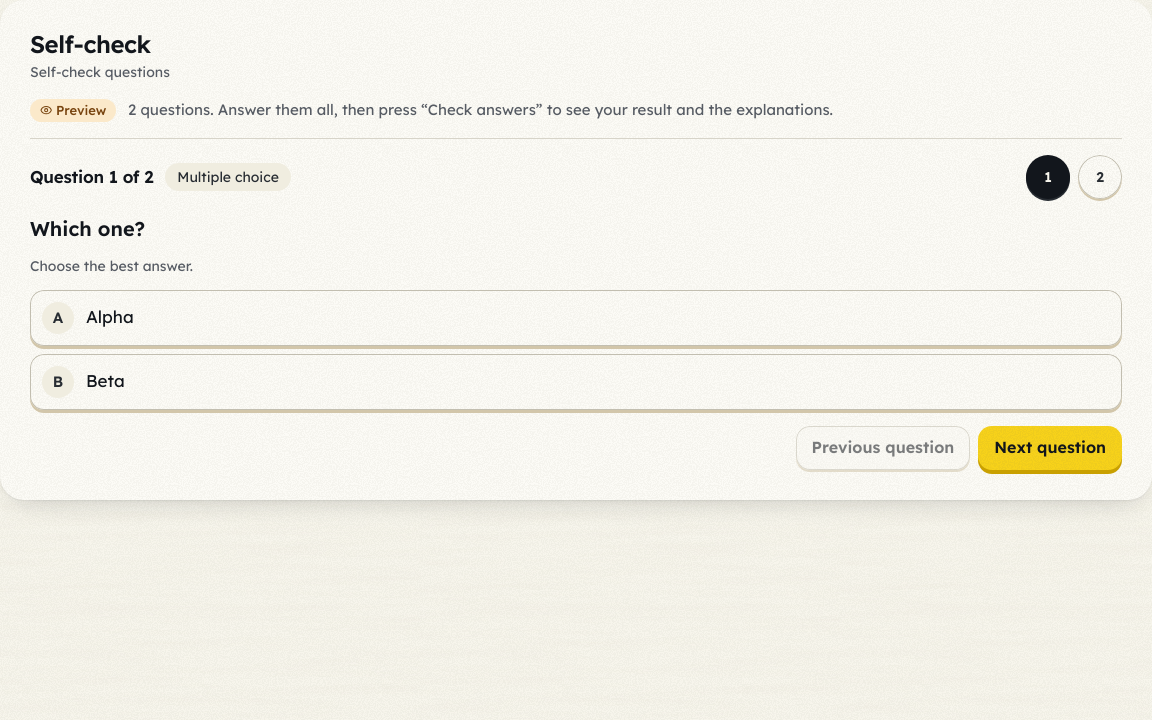
it: QuizBlock learner view › lists unanswered questions, then counts them as wrong when checked anyway
The image size is (1152, 720).
Click the button "Next question" at point(1050, 448), box [978,426,1122,470]
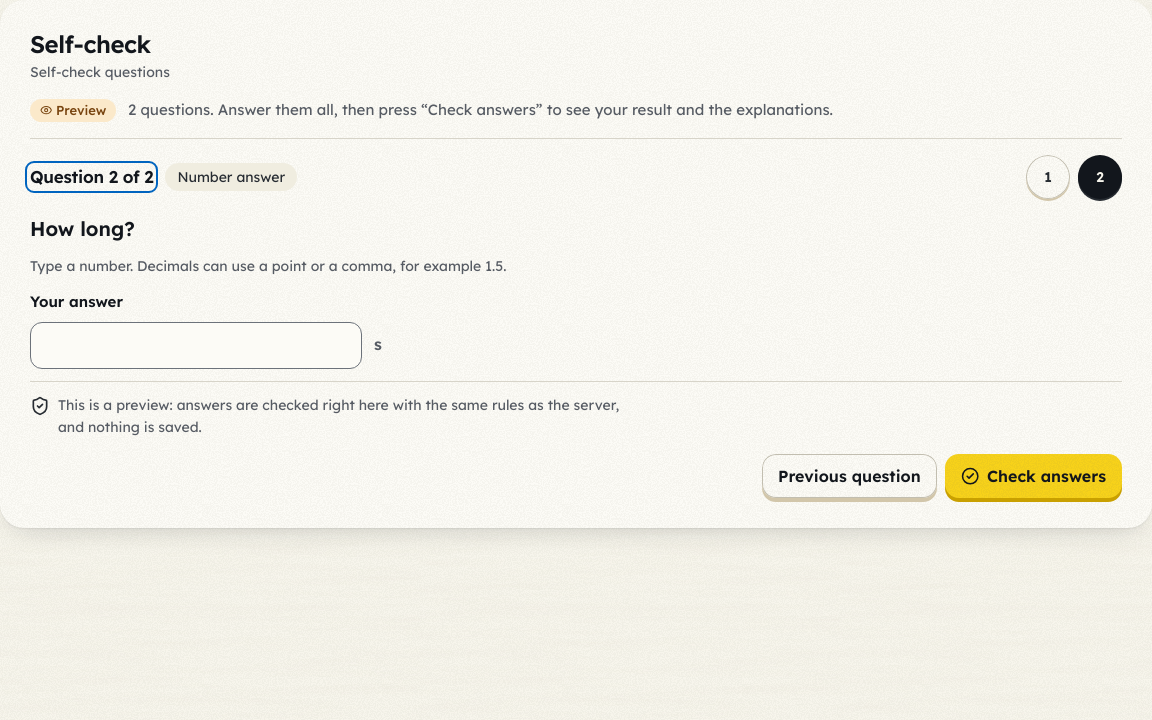
Click the button "Check answers" at point(1033, 476), box [945,454,1122,498]
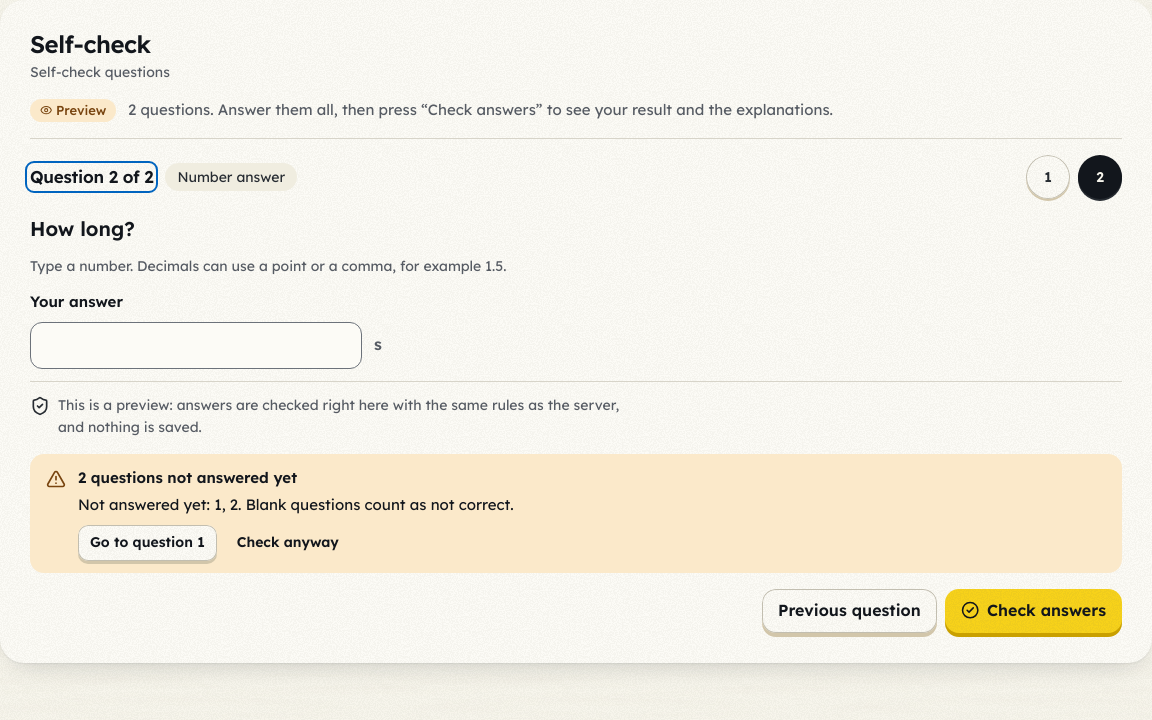
Expected: the text "2 questions not answered yet" is shown, [78,468,297,487]
Click the button "Check anyway" at point(288, 543), box [225,525,351,561]
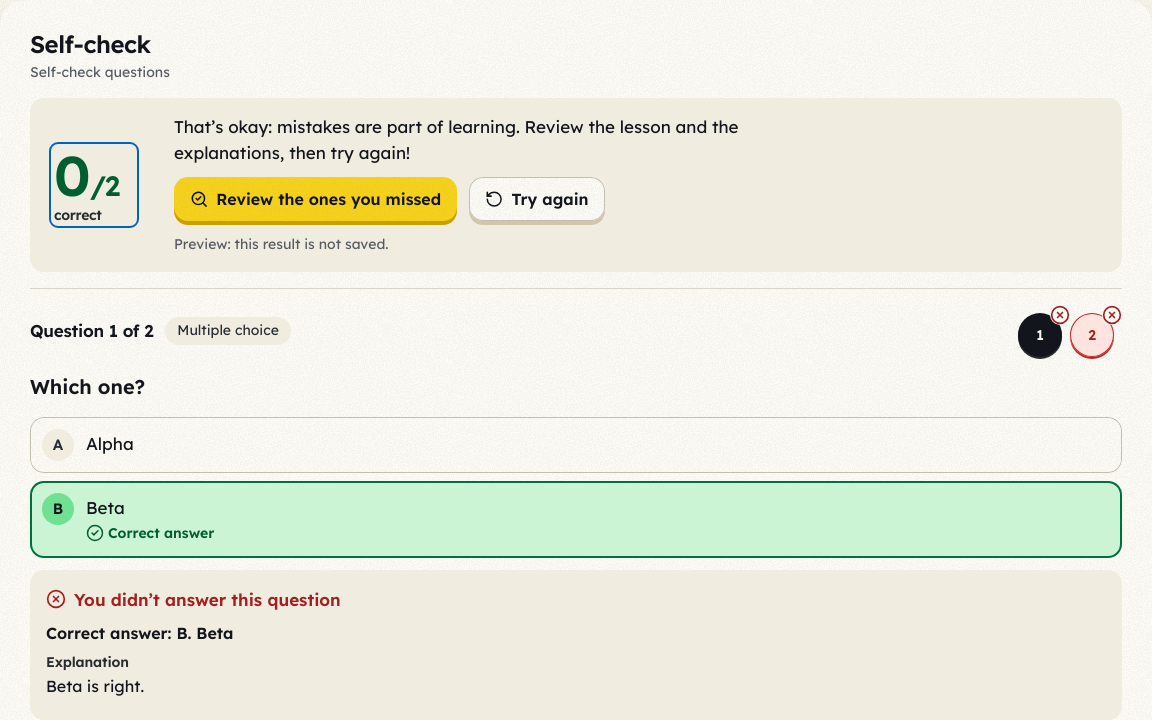
Expected: the text "You didn’t answer this question" is shown, [46,588,341,610]
